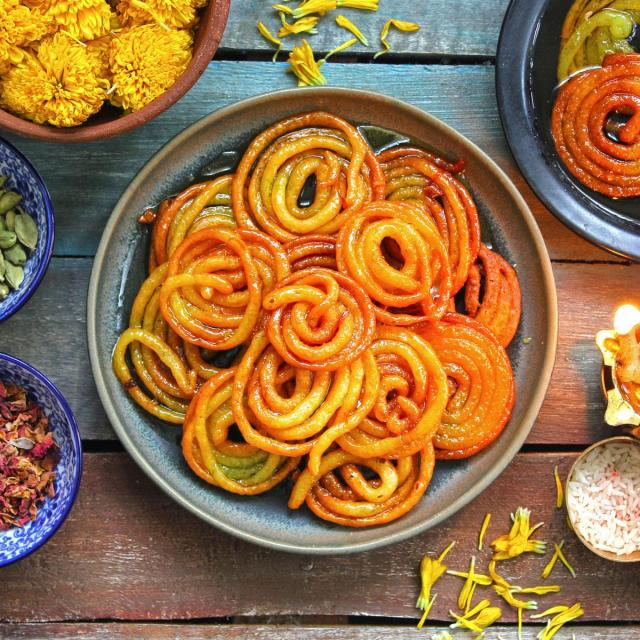jalebi: (130, 126, 508, 530), (554, 48, 640, 207)
